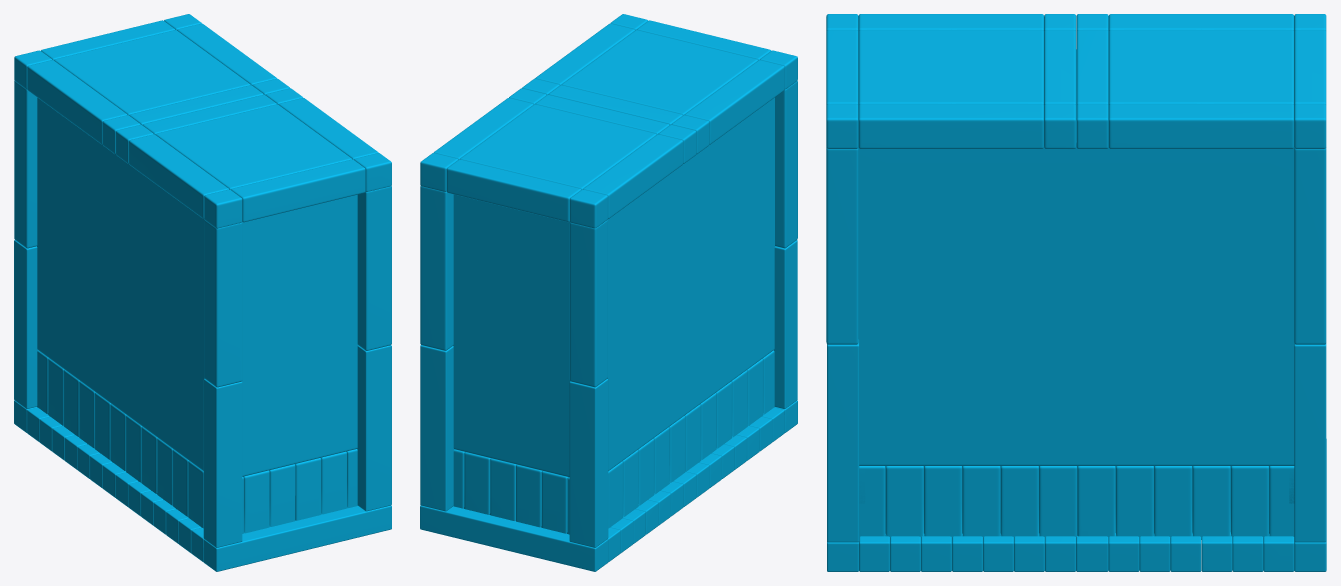
Rendered from SM_Wood_Body_03.fbx.
3 renders of one model, left to right at view 1: azimuth 30°, elevation 25°; view 2: azimuth 150°, elevation 25°; view 3: azimuth 270°, elevation 25°, orthographic. The views are drawn at different scales.
Parts seen in each view (by area): view 1: SM_Wood_Body_03; view 2: SM_Wood_Body_03; view 3: SM_Wood_Body_03.
Part boxes in pixels (box(x1,y1,x2,y2)): SM_Wood_Body_03: box(14, 14, 391, 571); SM_Wood_Body_03: box(420, 14, 797, 571); SM_Wood_Body_03: box(826, 14, 1326, 571).
Bounding box in the file's own units: 2.5 × 5 × 5.
